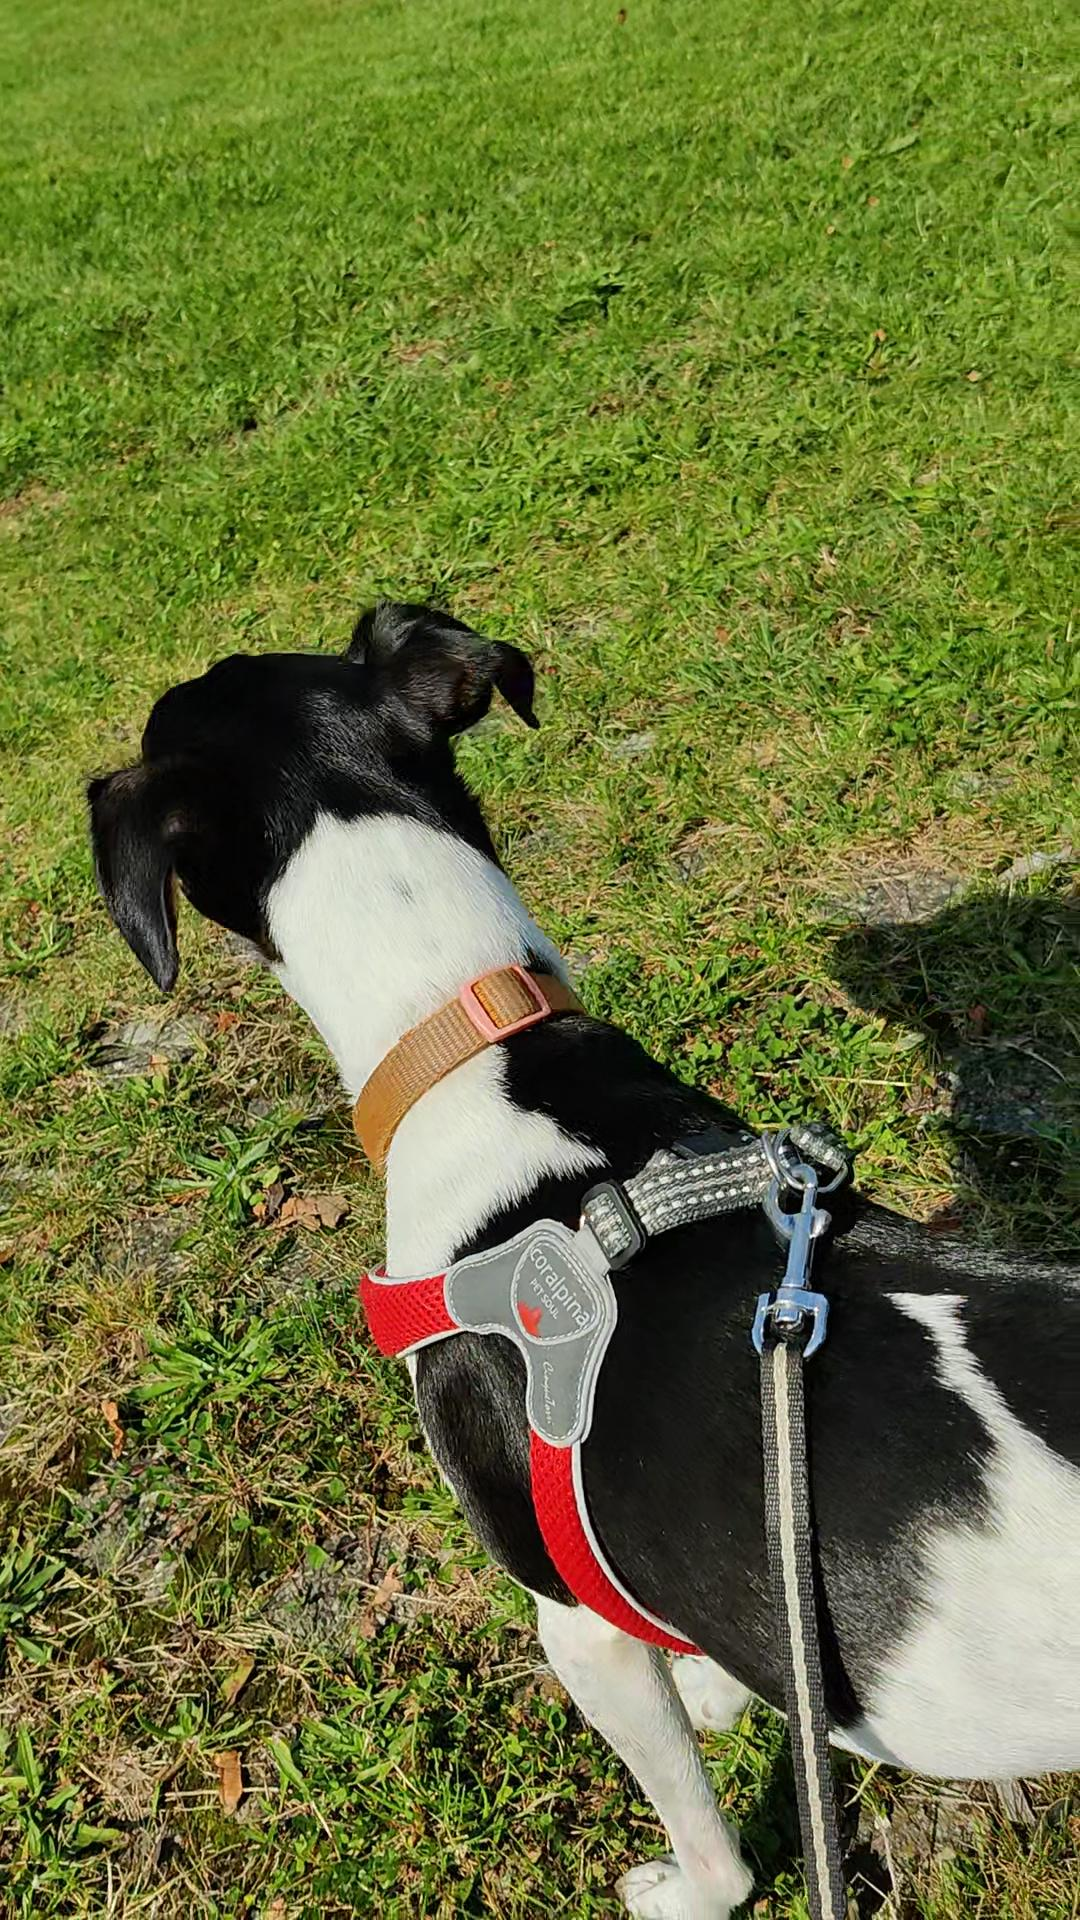Dog: (22, 539, 1079, 1919)
